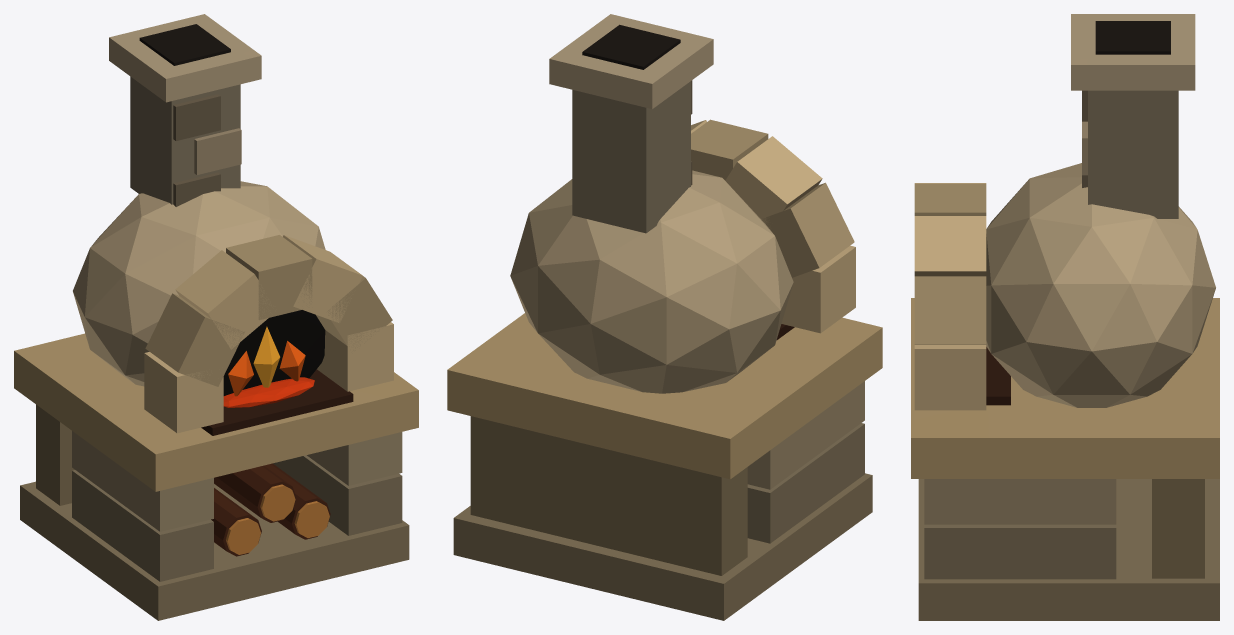
The model's file is stone-oven.obj.
3 renders of one model, left to right at view 1: azimuth 30°, elevation 25°; view 2: azimuth 150°, elevation 25°; view 3: azimuth 270°, elevation 25°, orthographic. The views are drawn at different scales.
Parts seen in each view (by area): view 1: stone-oven; view 2: stone-oven; view 3: stone-oven.
Boxes of the visible parts, <box> form: stone-oven: <box>14,14,418,620</box>; stone-oven: <box>447,14,882,620</box>; stone-oven: <box>911,14,1219,620</box>.
Size of the model in its own units: 0.88 by 1.52 by 0.82.
1 material, 1 textured.
